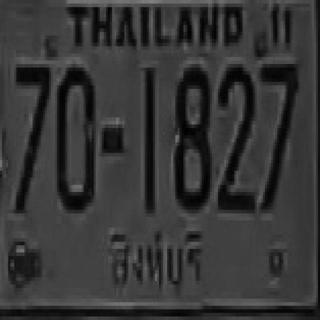N00: (55, 64, 94, 210)
N01: (144, 66, 154, 212)
N02: (217, 64, 254, 210)
N07: (259, 60, 298, 210), (14, 60, 49, 210)
N08: (173, 64, 210, 206)
P62: (103, 223, 212, 298)
